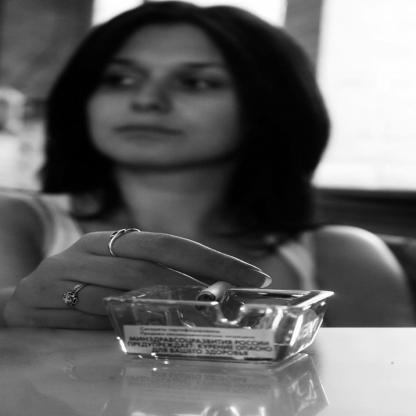smoking: (196, 275, 241, 304)
